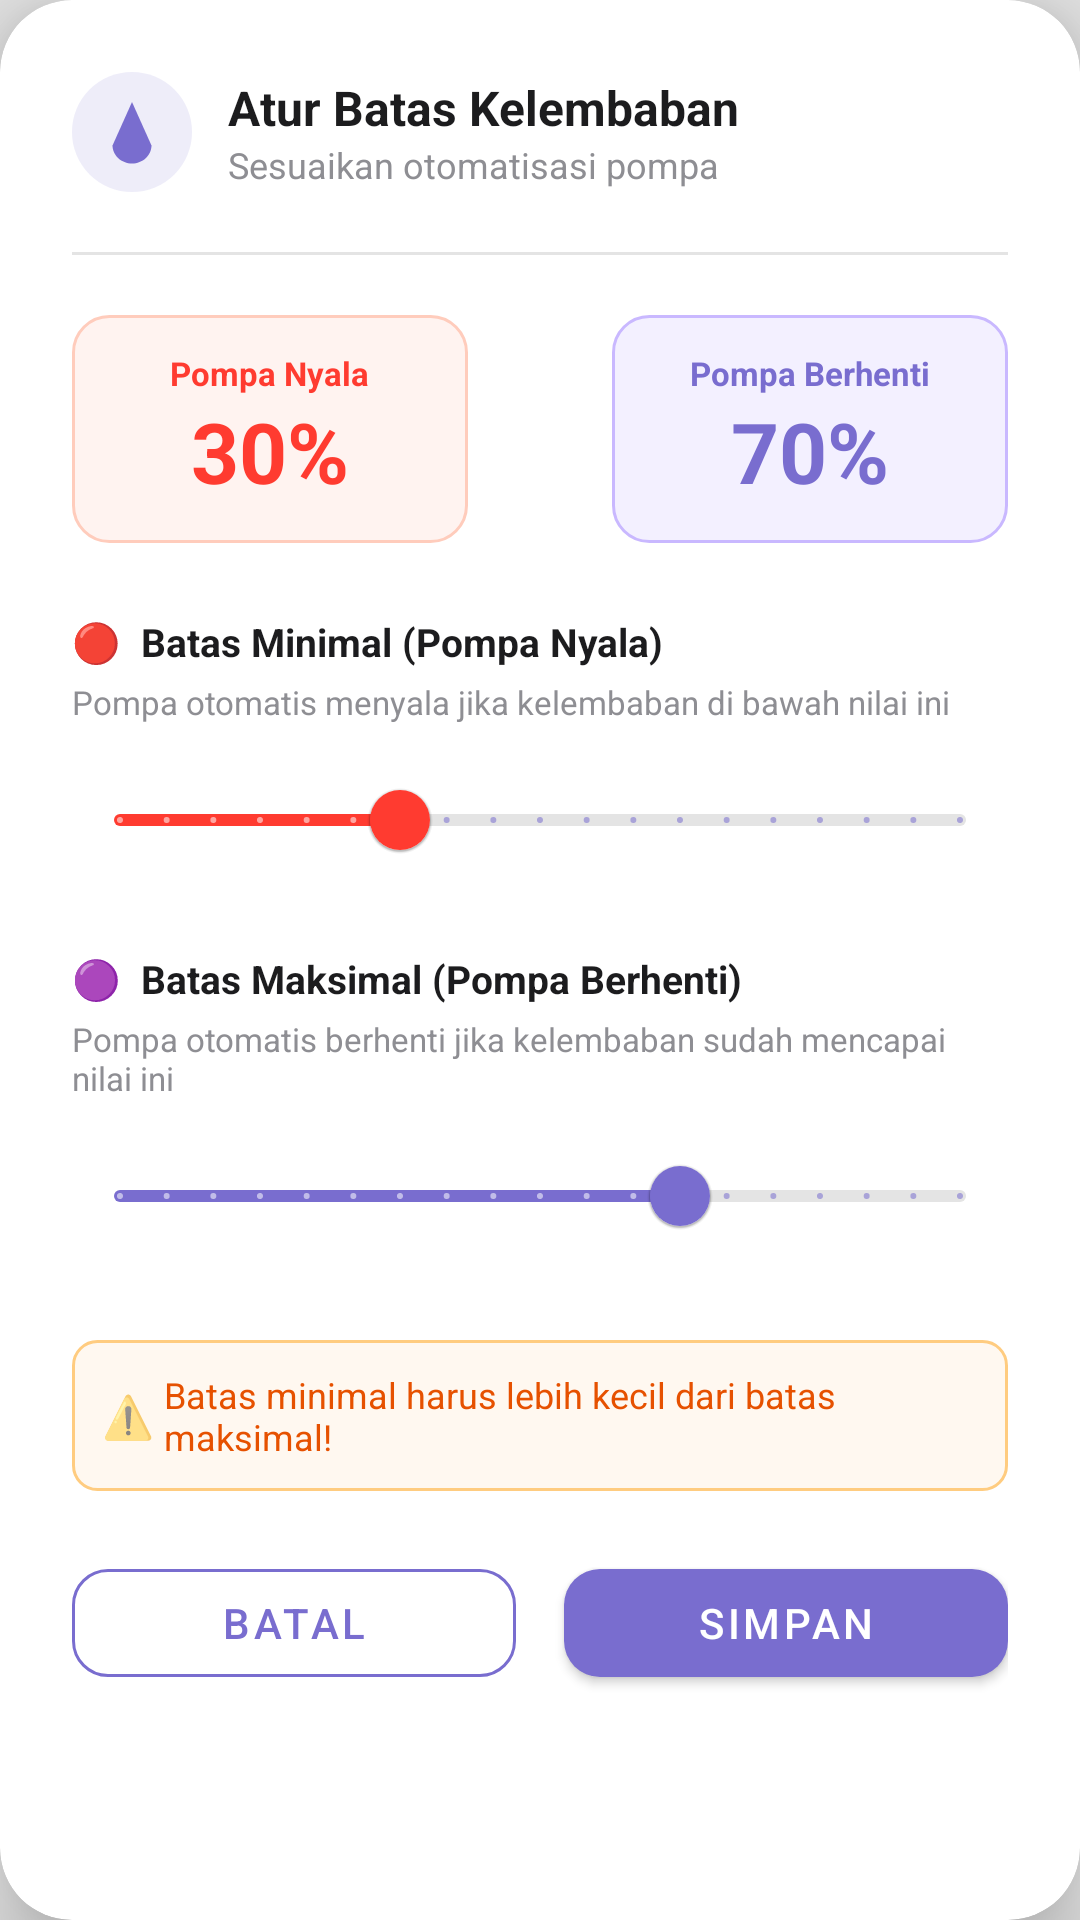

Icon click points for this 1080*1920 phone screenshot, format (x,y):
water drop: (132,133)
